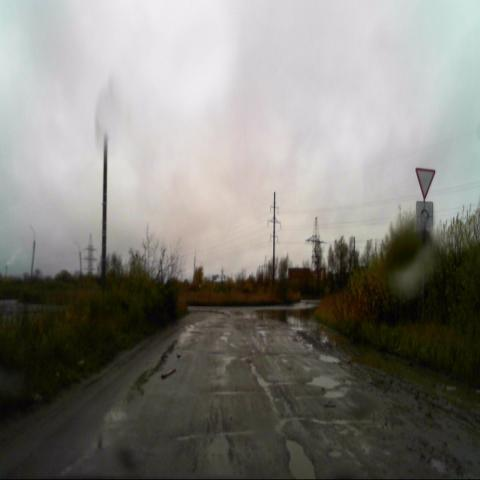8_13_1: (416, 201, 433, 230)
